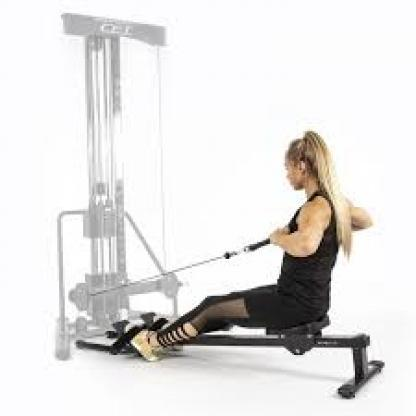Seated Cable Rows: (40, 9, 393, 398)
